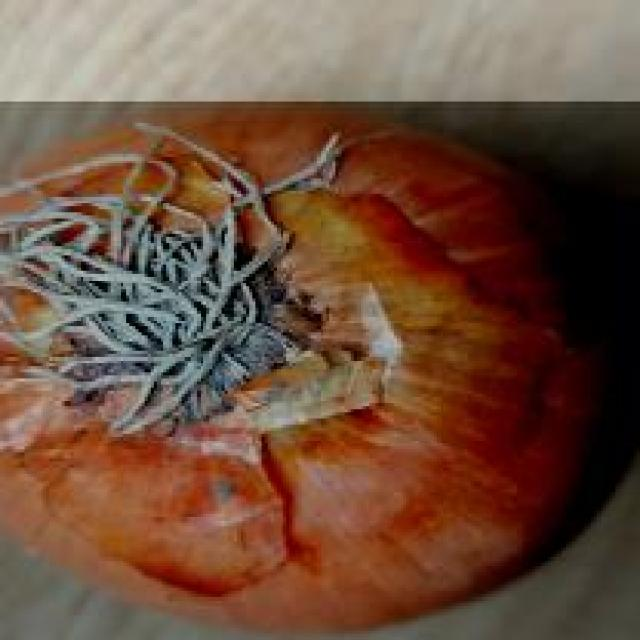onion: (0, 95, 640, 637)
